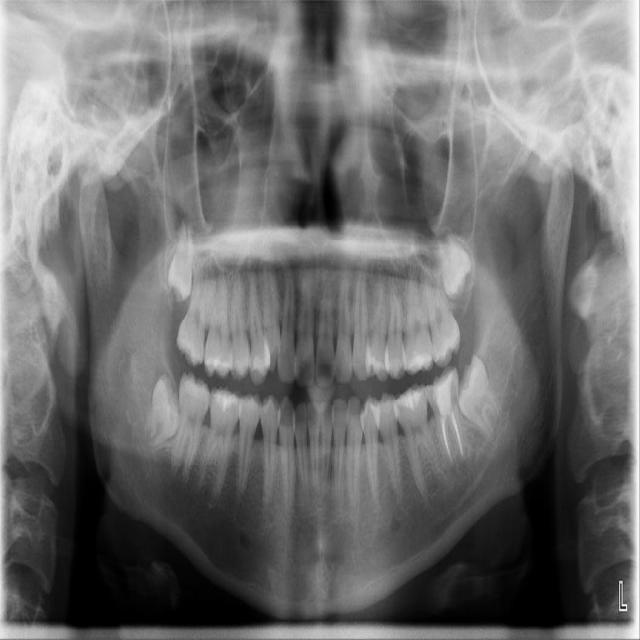Root Canal Treatment: (449, 413, 461, 456), (442, 415, 452, 462)
impacted tooth: (460, 356, 503, 446), (145, 376, 181, 445), (433, 230, 469, 296), (167, 221, 194, 296)
